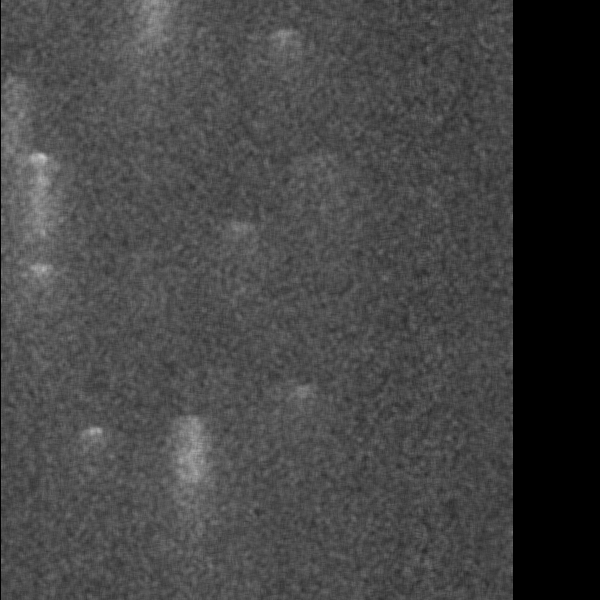spark: (163, 20, 236, 121), (322, 172, 375, 204)
